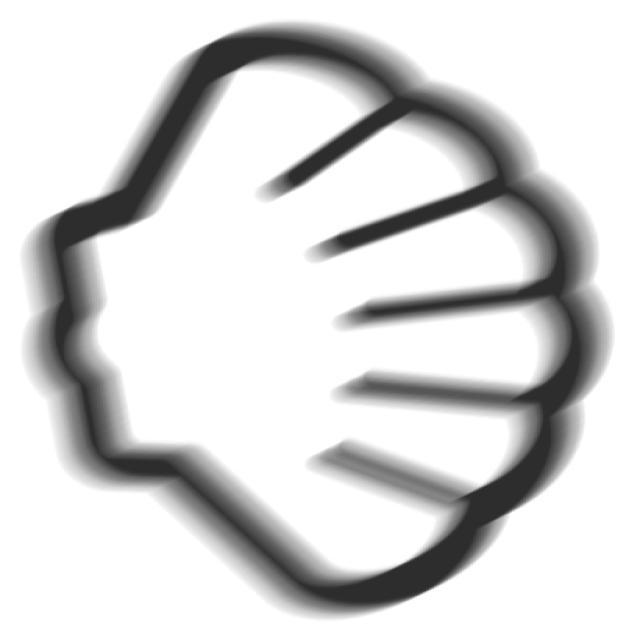shell: (9, 13, 629, 636)
